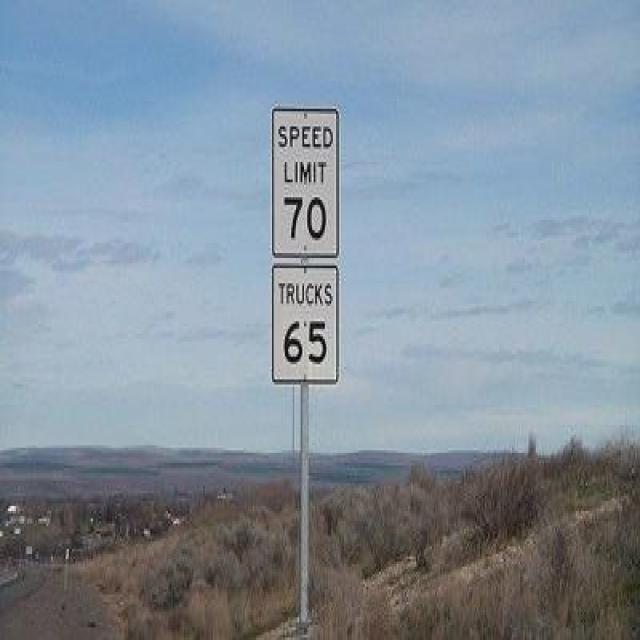speedLimit70: (276, 119, 334, 250)
